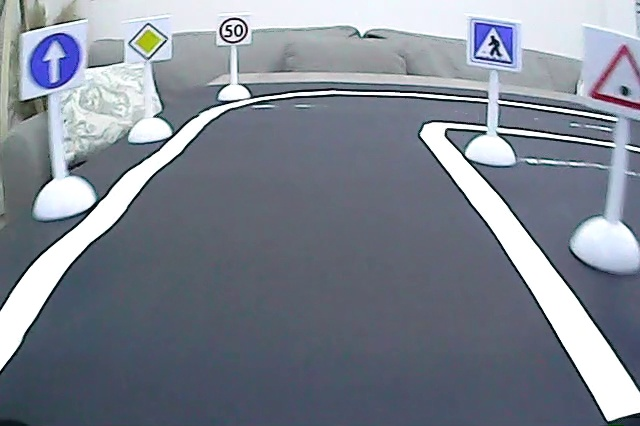green light: (586, 33, 640, 108)
pedestrian crossing: (470, 20, 518, 66)
speed limit 50: (218, 16, 248, 44)
